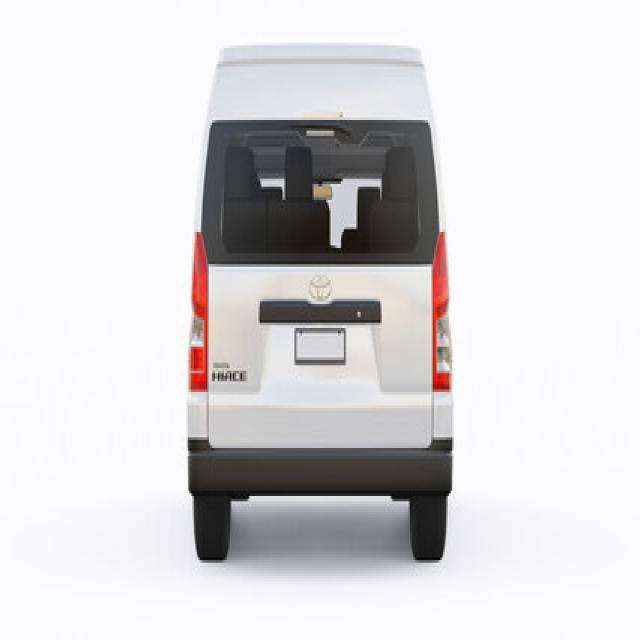van: (188, 45, 452, 560)
